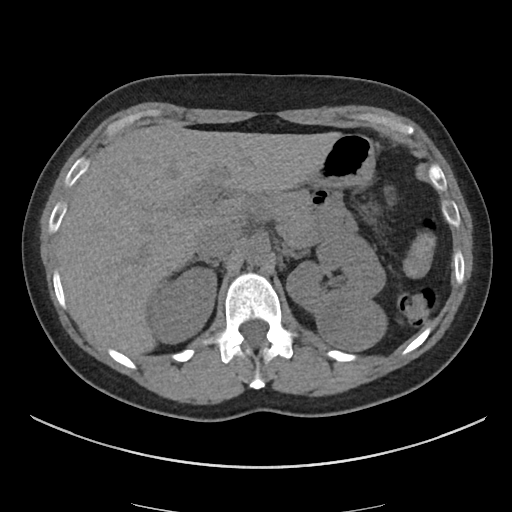Lesion: (311, 286, 390, 356)
